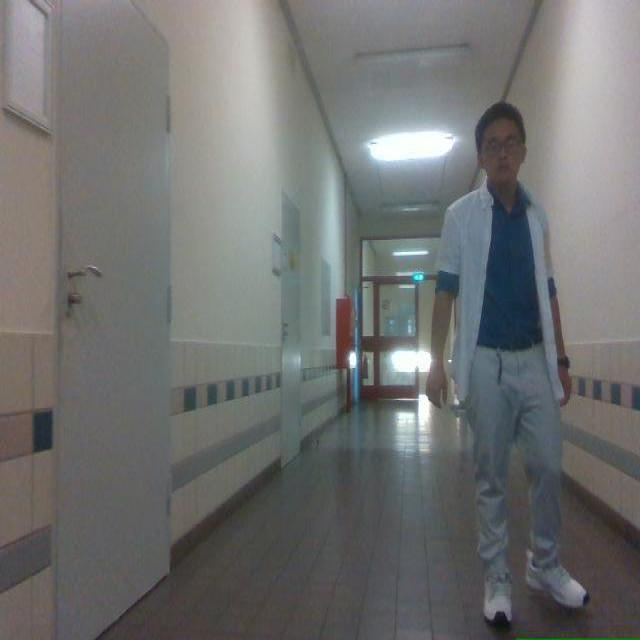humans: (427, 103, 588, 623)
